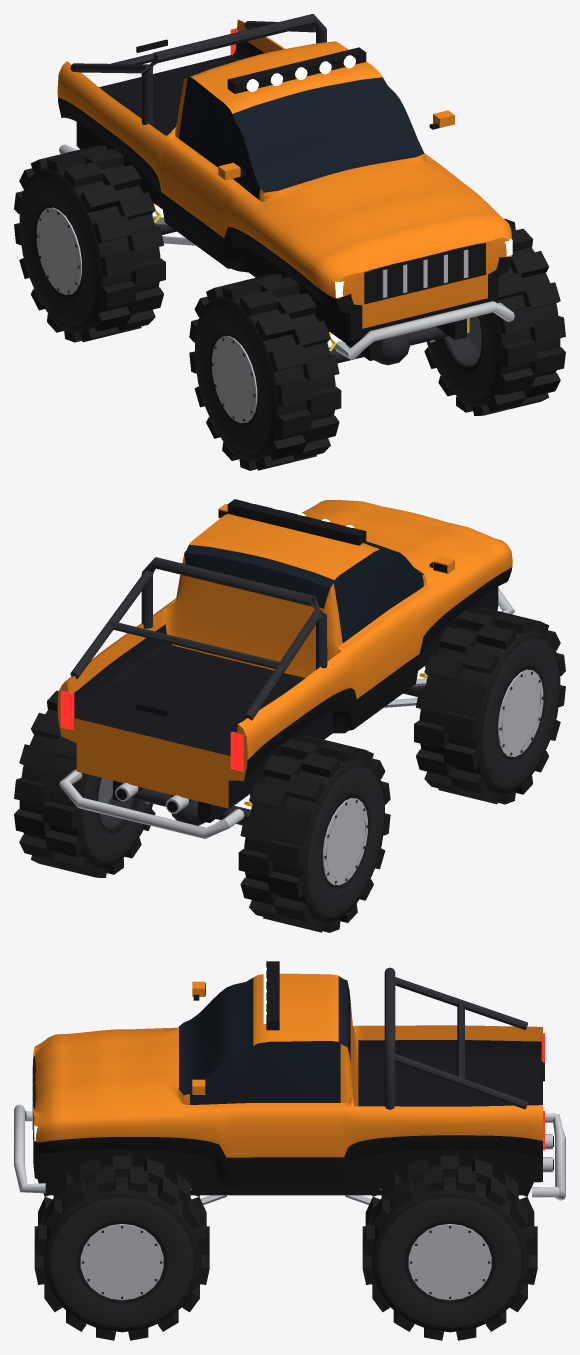
The model's file is monster.glb.
The picture shows the model from 3 angles, top to bottom: view 1: azimuth 30°, elevation 25°; view 2: azimuth 150°, elevation 25°; view 3: azimuth 270°, elevation 25°; orthographic projection. The views are drawn at different scales.
Parts seen in each view (by area): view 1: body, wheel_FR, wheel_RR, wheel_FL; view 2: body, wheel_RR, wheel_FR, wheel_RL; view 3: body, wheel_RL, wheel_FL.
Boxes of the visible parts, box(x1,y1,x2,y2) form: body: box(57, 14, 514, 365); wheel_FR: box(189, 273, 341, 470); wheel_RR: box(14, 145, 165, 342); wheel_FL: box(424, 218, 565, 415); body: box(57, 499, 514, 838); wheel_RR: box(238, 735, 390, 932); wheel_FR: box(414, 607, 565, 804); wheel_RL: box(14, 690, 155, 877); body: box(14, 961, 565, 1204); wheel_RL: box(362, 1155, 537, 1340); wheel_FL: box(34, 1155, 209, 1340).
Size of the model in its own units: 2.85 by 2.89 by 5.05.
